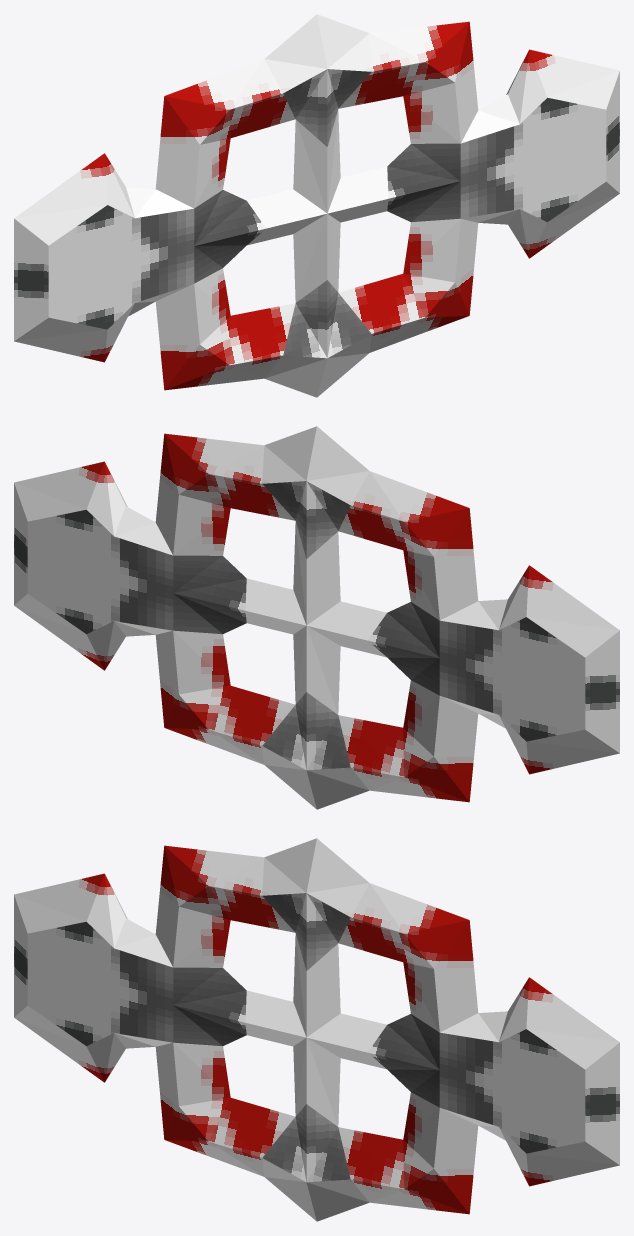
The model's file is sizzlingedge.obj.
The picture shows the model from 3 angles, top to bottom: view 1: azimuth 30°, elevation 25°; view 2: azimuth 150°, elevation 25°; view 3: azimuth 330°, elevation 25°; orthographic projection.
Bounding box in the file's own units: 100 × 60.48 × 6.
